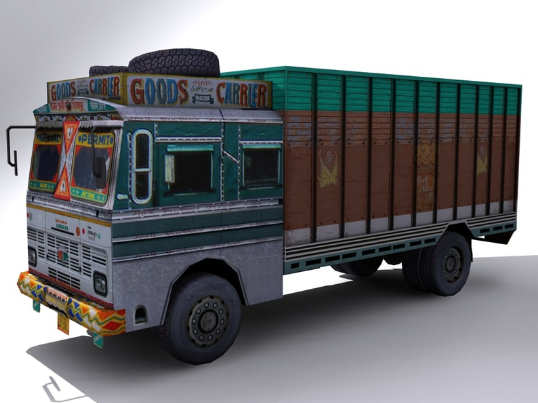truck: (6, 49, 525, 386)
